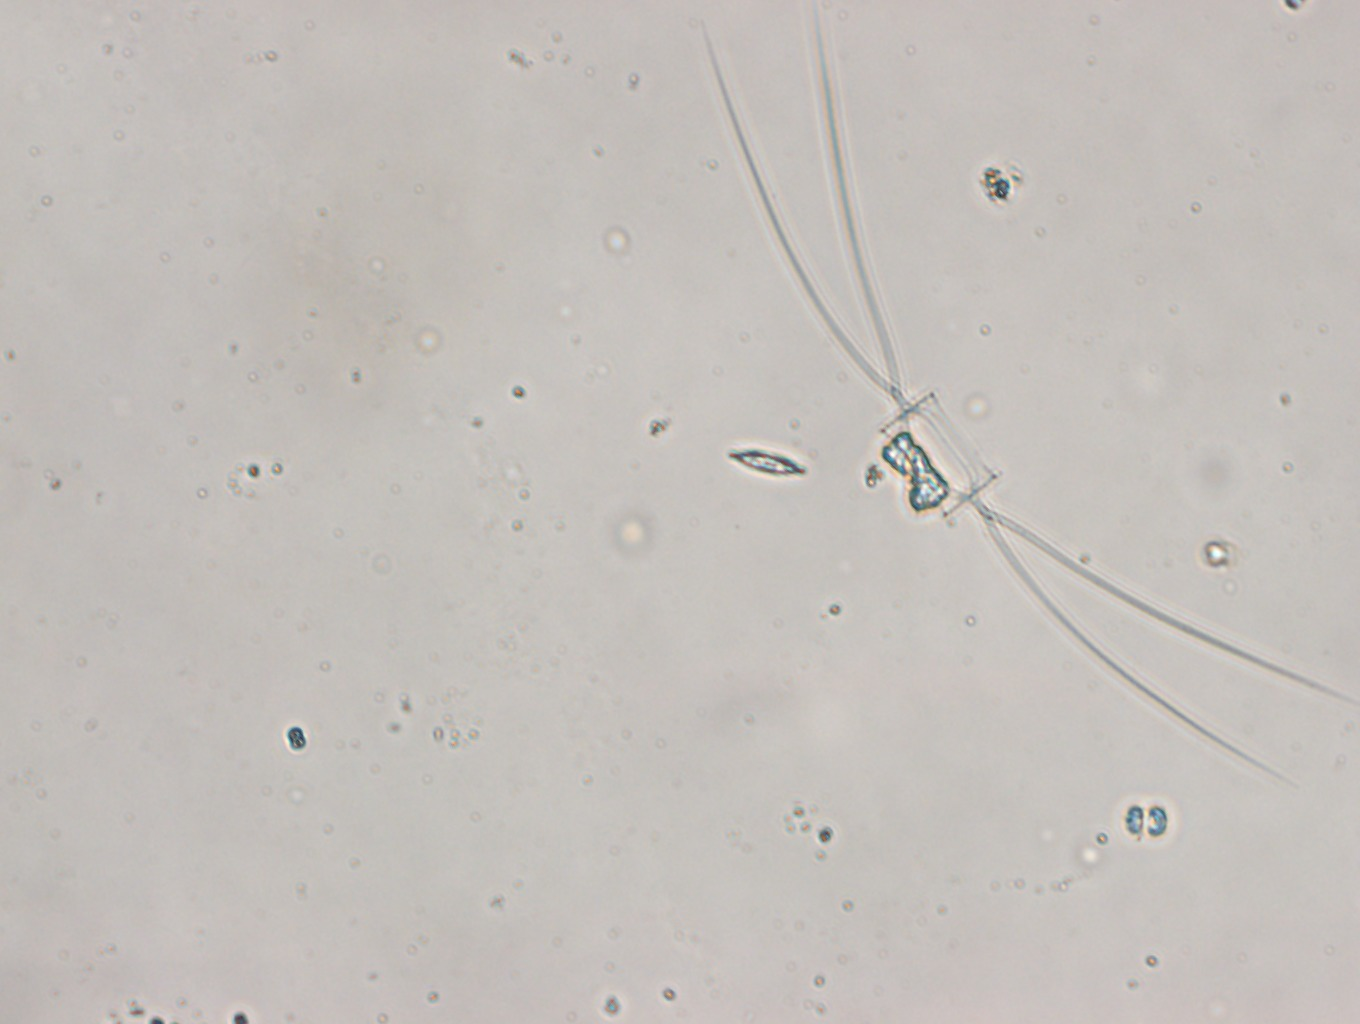chaetoceros: (693, 13, 1335, 778)
